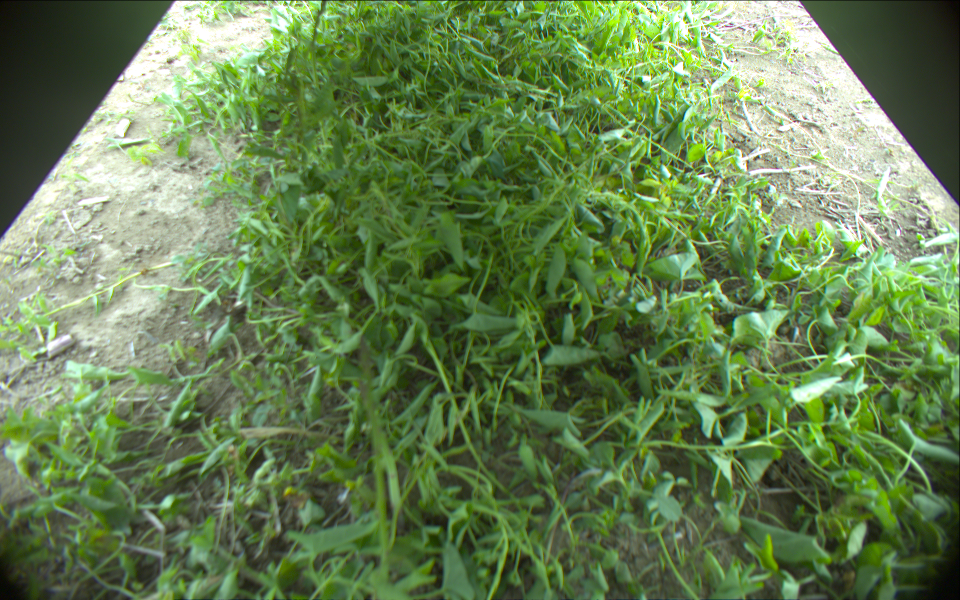aspa: (356, 337, 390, 600)
